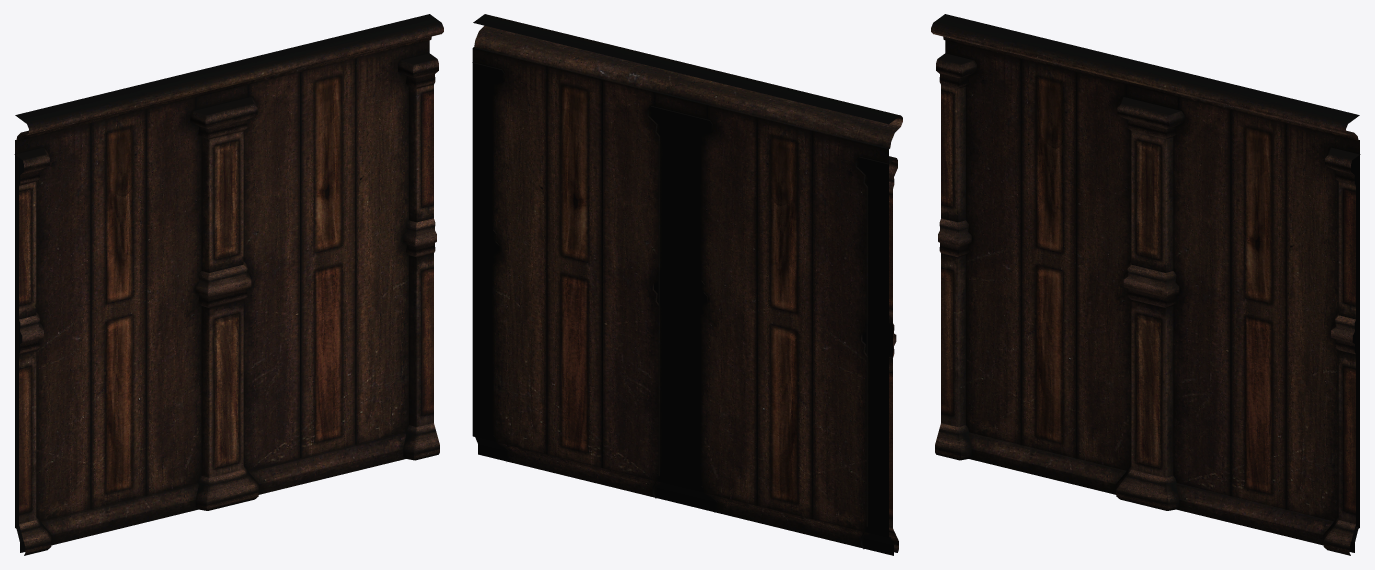
The picture shows the model from 3 angles, left to right: view 1: azimuth 30°, elevation 25°; view 2: azimuth 150°, elevation 25°; view 3: azimuth 330°, elevation 25°; orthographic projection.
Parts seen in each view (by area): view 1: default02; view 2: default02; view 3: default02.
Boxes of the visible parts, left/top/right/bottom form: default02: left=14, top=14, right=443, bottom=555; default02: left=472, top=14, right=902, bottom=555; default02: left=931, top=14, right=1360, bottom=555.
Size of the model in its own units: 4 by 4 by 0.2475.
